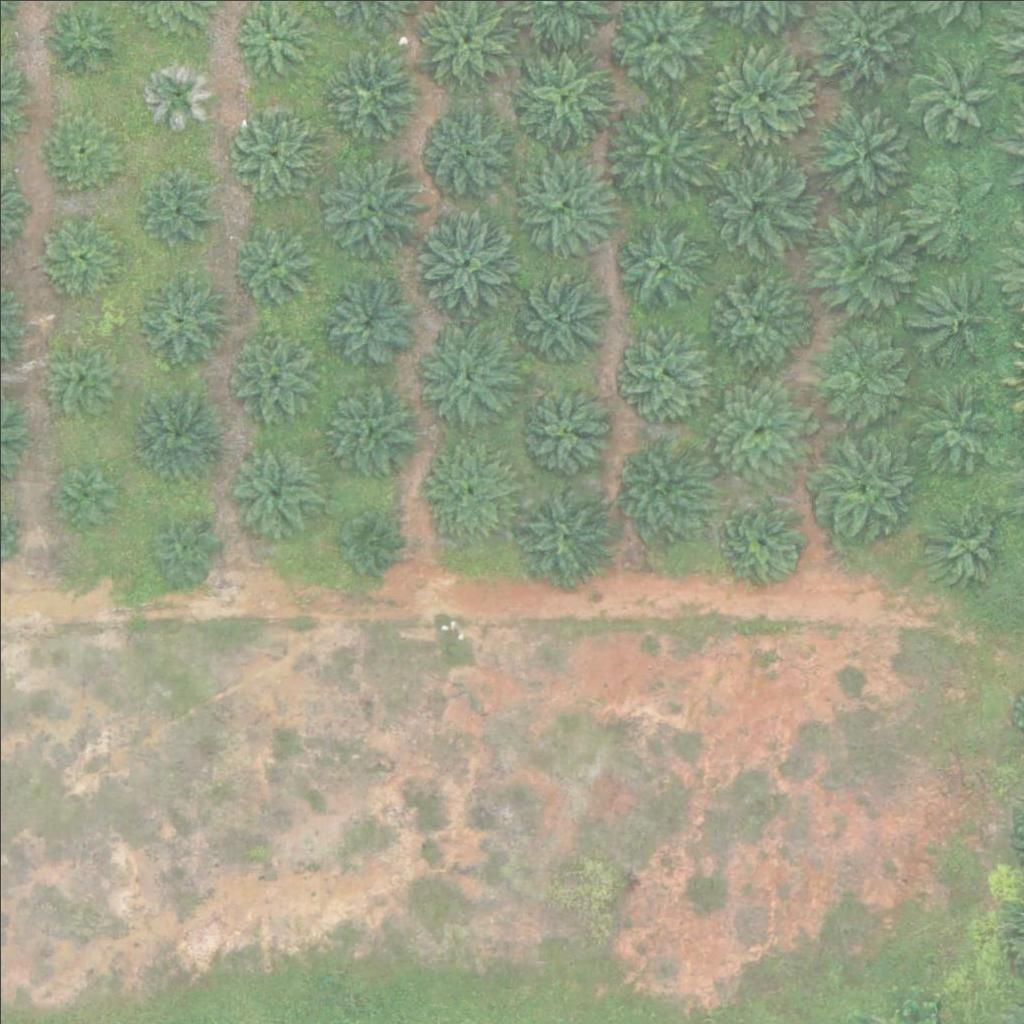Kelapa_Sawit: (700, 371, 813, 485), (696, 259, 809, 373), (599, 95, 712, 209), (507, 38, 620, 152), (312, 149, 425, 262), (510, 145, 622, 259), (799, 202, 911, 315), (801, 94, 913, 207), (697, 145, 809, 258), (506, 475, 618, 588), (406, 205, 518, 318), (707, 46, 807, 147), (610, 432, 710, 533), (509, 373, 609, 474), (507, 267, 607, 368), (416, 435, 516, 536), (414, 329, 514, 430), (320, 377, 420, 478), (317, 269, 417, 370), (319, 45, 419, 146), (223, 439, 323, 540), (814, 433, 914, 533), (801, 323, 901, 423), (610, 324, 710, 424), (607, 213, 707, 313), (415, 102, 515, 202), (227, 327, 315, 416), (37, 103, 125, 192), (919, 500, 1007, 588), (908, 270, 996, 358), (133, 385, 221, 473), (136, 272, 224, 360), (34, 206, 122, 294), (904, 380, 991, 468), (905, 166, 992, 254), (910, 52, 997, 140), (719, 497, 806, 585), (231, 214, 318, 302), (228, 104, 315, 192), (44, 335, 119, 410), (140, 167, 215, 242), (138, 53, 213, 128), (151, 514, 214, 577), (54, 467, 117, 530), (334, 512, 397, 575)
